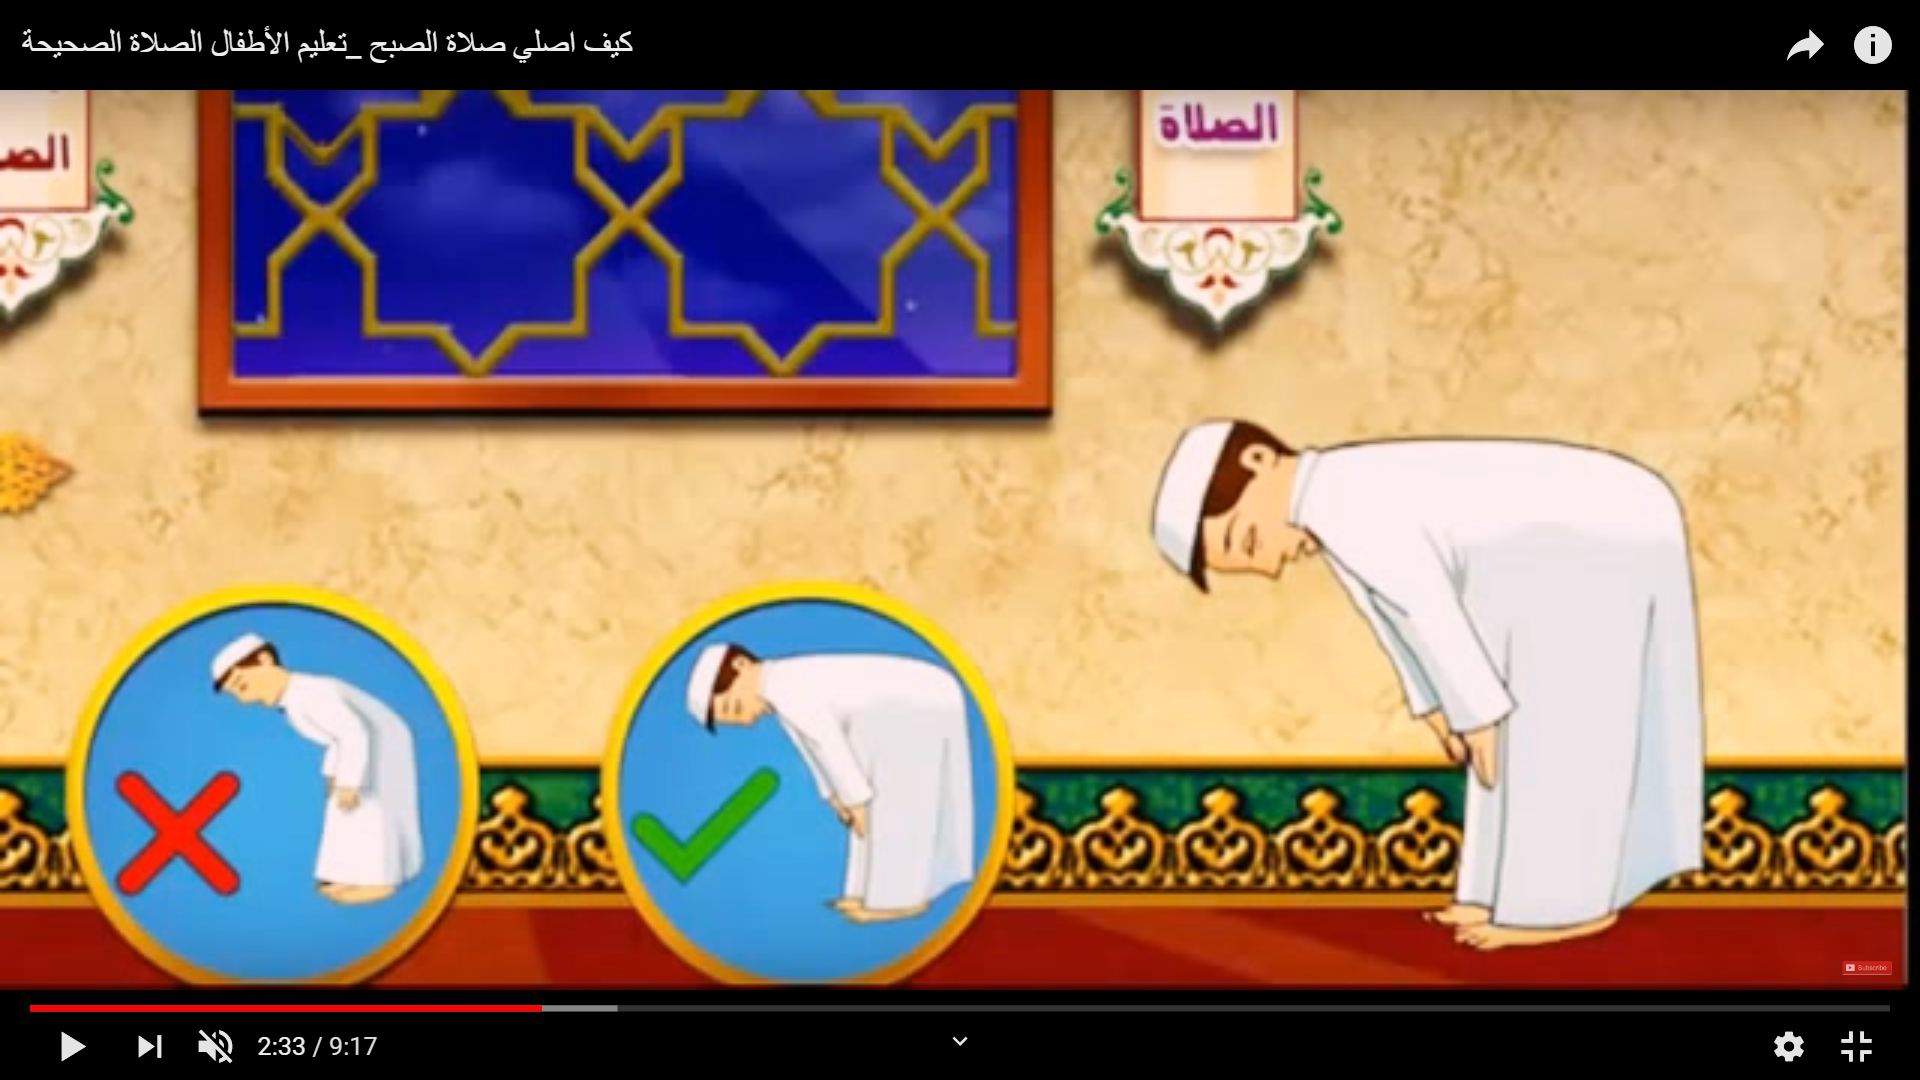ruku: (1106, 369, 1800, 1007)
